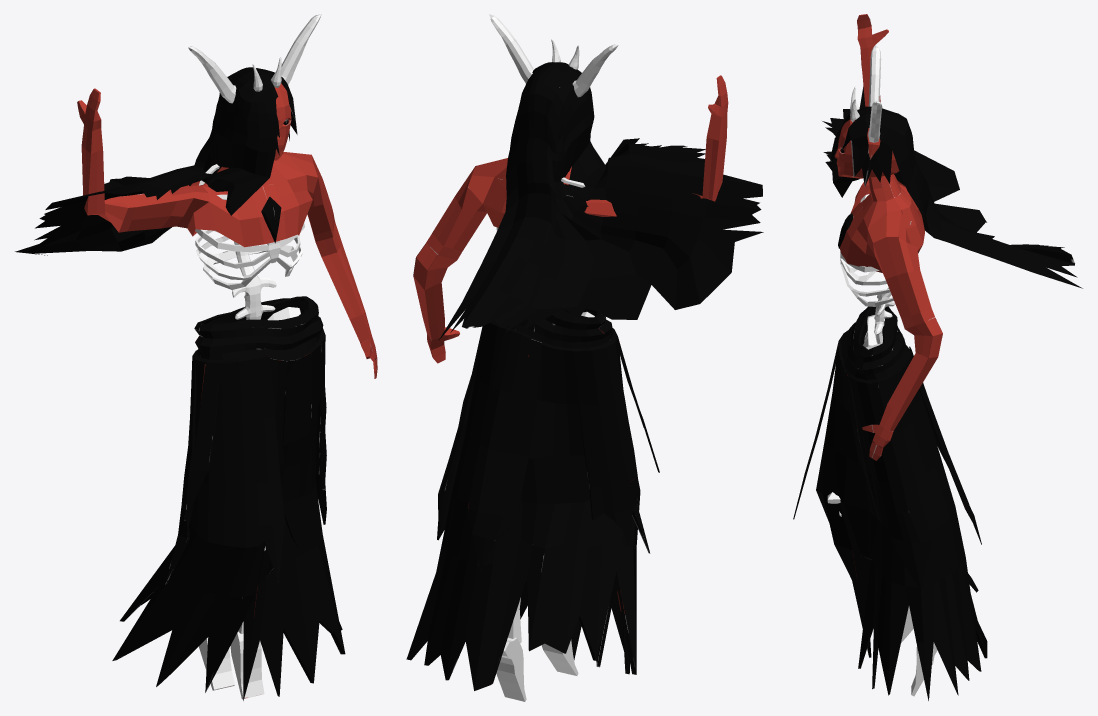
File: cursedqueenattack_10.fbx
3 views of the same model, side by side, from view 1: azimuth 30°, elevation 25°; view 2: azimuth 150°, elevation 25°; view 3: azimuth 270°, elevation 25° (orthographic). The views are drawn at different scales.
Parts seen in each view (by area): view 1: cursed_queen; view 2: cursed_queen; view 3: cursed_queen.
Part boxes in pixels (x1,y1,x2,y2): cursed_queen: [15, 14, 377, 700]; cursed_queen: [406, 14, 763, 701]; cursed_queen: [793, 14, 1082, 700].
Size of the model in its own units: 148 by 280 by 121.
